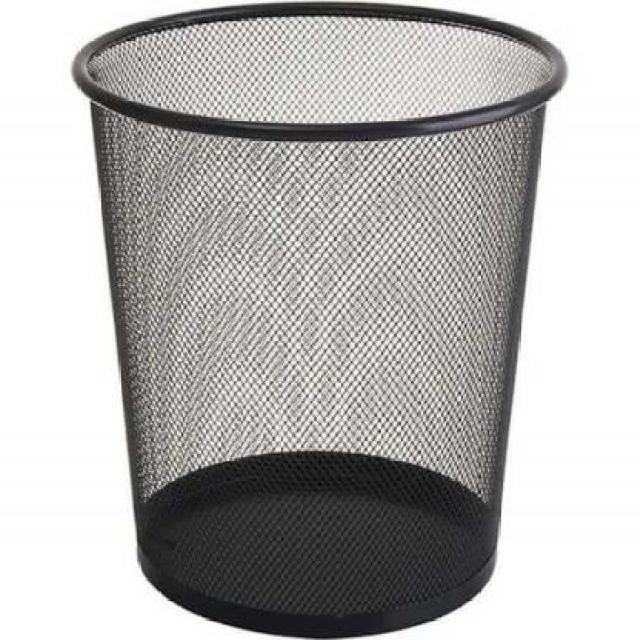dustbin: (70, 3, 568, 639)
